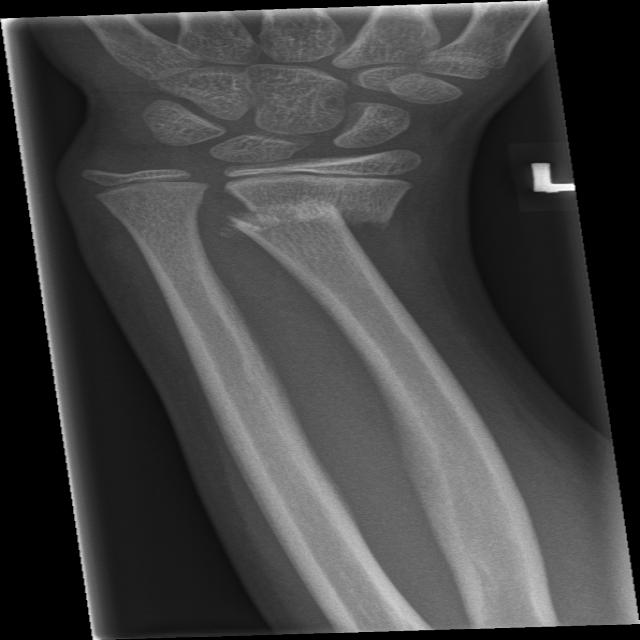radius fracture: (217, 175, 434, 309)
